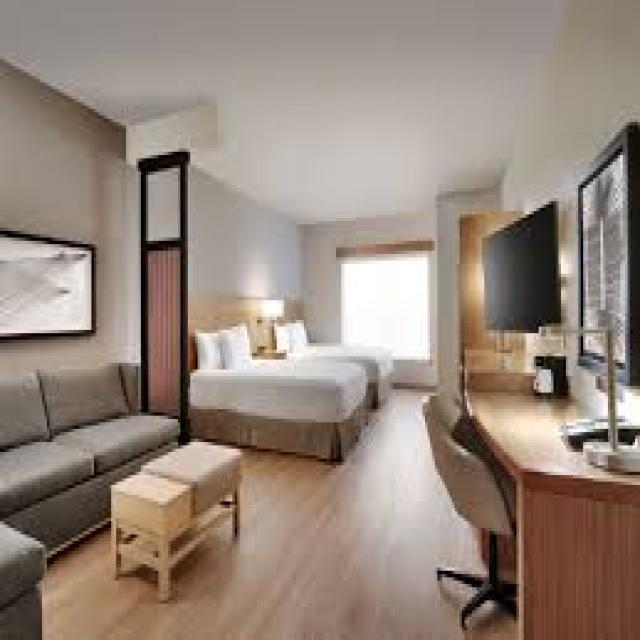Sofa: (1, 363, 173, 625)
Table: (111, 438, 242, 607)
tv: (469, 202, 562, 329)
